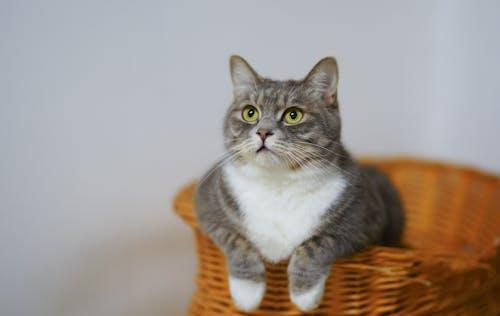kedo: (198, 59, 397, 310)
